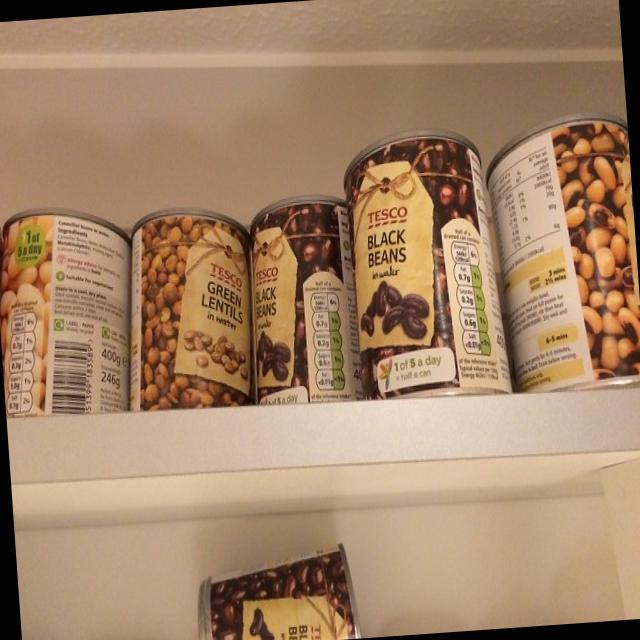Recycle: (340, 133, 516, 415), (479, 100, 640, 394), (0, 203, 144, 424), (124, 204, 258, 423), (242, 184, 364, 421), (195, 542, 361, 640)
